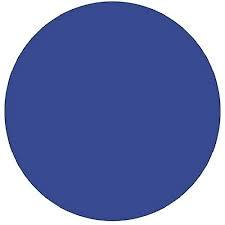blue_circle: (2, 0, 224, 225)
